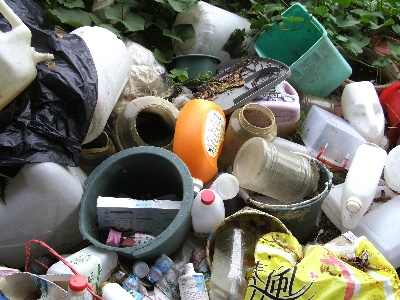bottle: (173, 98, 228, 195), (234, 135, 316, 200), (341, 140, 388, 229), (222, 103, 277, 174), (115, 95, 180, 151), (190, 188, 226, 244)
bowl: (80, 147, 195, 259), (171, 52, 222, 86)
box: (251, 2, 353, 99), (299, 104, 370, 172)
bucket: (239, 153, 333, 241)
plastic_bag: (236, 231, 400, 298), (3, 83, 98, 169)
